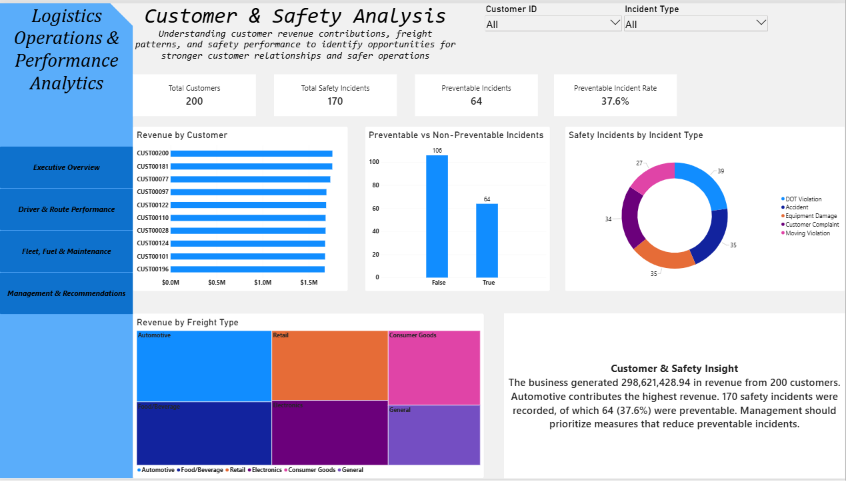

What the dashboard file says about the page in this screenshot:
{"tool":"powerbi","page":{"name":"Customer & Safety Analysis","canvas":[3840,2160],"ordinal":3},"visuals":[{"type":"shape","box":[0,0,604.2,2157.7],"z":0},{"type":"cardVisual","fields":{"Data":["Customer.Total Customers"]},"box":[604.2,322.5,558.7,190.8],"z":1000},{"type":"cardVisual","fields":{"Data":["Safety Incidents.Preventable Incident Rate"]},"box":[2516.6,322.5,558.7,190.8],"z":2000},{"type":"cardVisual","fields":{"Data":["Safety Incidents.Total Safety Incidents"]},"box":[1244.7,322.5,558.7,190.8],"z":3000},{"type":"cardVisual","fields":{"Data":["Safety Incidents.Preventable Incidents"]},"box":[1885.2,322.5,558.7,190.8],"z":4000},{"type":"clusteredBarChart","title":"Revenue by Customer","fields":{"Category":["Customer.customer_id"],"Y":["Loads.Total Revenue"]},"box":[604.2,558.7,976.7,749.5],"z":5000},{"type":"donutChart","title":"Safety Incidents by Incident Type","fields":{"Category":["Safety Incidents.incident_type"],"Y":["Safety Incidents.Total Safety Incidents"]},"box":[2566.6,558.7,1271.9,749.5],"z":6000},{"type":"columnChart","title":"Preventable vs Non-Preventable Incidents","fields":{"Category":["Safety Incidents.preventable_flag"],"Y":["Safety Incidents.Total Safety Incidents"]},"box":[1658.1,558.7,840.4,749.5],"z":7000},{"type":"treemap","title":"Revenue by Freight Type","fields":{"Group":["Customer.primary_freight_type"],"Values":["Loads.Total Revenue"]},"box":[604.2,1408.2,1594.5,749.5],"z":8000},{"type":"textbox","box":[604.2,0,1476.3,268],"z":9000},{"type":"cardVisual","fields":{"Data":["Customer.Customer & Safety Insight"]},"box":[2289.5,1408.2,1549,749.5],"z":10000},{"type":"textbox","box":[0,0,604.2,449.7],"z":11000},{"type":"actionButton","box":[0,649.6,604.2,190.8],"z":12000},{"type":"actionButton","box":[0,840.4,604.2,190.8],"z":13000},{"type":"actionButton","box":[0,1031.2,604.2,190.8],"z":14000},{"type":"actionButton","box":[0,1222,604.2,190.8],"z":15000},{"type":"slicer","fields":{"Values":["Customer.customer_id"]},"box":[2198.6,0,631.4,227.1],"z":16000},{"type":"slicer","fields":{"Values":["Safety Incidents.incident_type"]},"box":[2830,0,663.2,227.1],"z":17000}]}

Visuals, with their boxes in screenshot pixels (x1, y1, x2, y2), scaled from the page's 3840x2160 canvas onto the 849x481 screenshot:
shape: <bbox>0, 0, 134, 480</bbox>
cardVisual - Customer.Total Customers: <bbox>134, 72, 257, 114</bbox>
cardVisual - Safety Incidents.Preventable Incident Rate: <bbox>556, 72, 680, 114</bbox>
cardVisual - Safety Incidents.Total Safety Incidents: <bbox>275, 72, 399, 114</bbox>
cardVisual - Safety Incidents.Preventable Incidents: <bbox>417, 72, 540, 114</bbox>
"Revenue by Customer" clusteredBarChart: <bbox>134, 124, 350, 291</bbox>
"Safety Incidents by Incident Type" donutChart: <bbox>567, 124, 848, 291</bbox>
"Preventable vs Non-Preventable Incidents" columnChart: <bbox>367, 124, 552, 291</bbox>
"Revenue by Freight Type" treemap: <bbox>134, 314, 486, 480</bbox>
textbox: <bbox>134, 0, 460, 60</bbox>
cardVisual - Customer.Customer & Safety Insight: <bbox>506, 314, 848, 480</bbox>
textbox: <bbox>0, 0, 134, 100</bbox>
actionButton: <bbox>0, 145, 134, 187</bbox>
actionButton: <bbox>0, 187, 134, 230</bbox>
actionButton: <bbox>0, 230, 134, 272</bbox>
actionButton: <bbox>0, 272, 134, 315</bbox>
slicer - Customer.customer_id: <bbox>486, 0, 626, 51</bbox>
slicer - Safety Incidents.incident_type: <bbox>626, 0, 772, 51</bbox>
